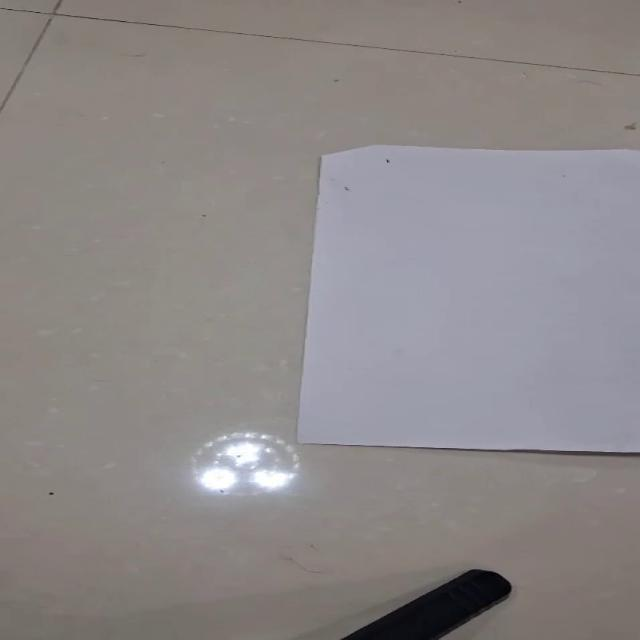paper: (294, 143, 638, 453)
